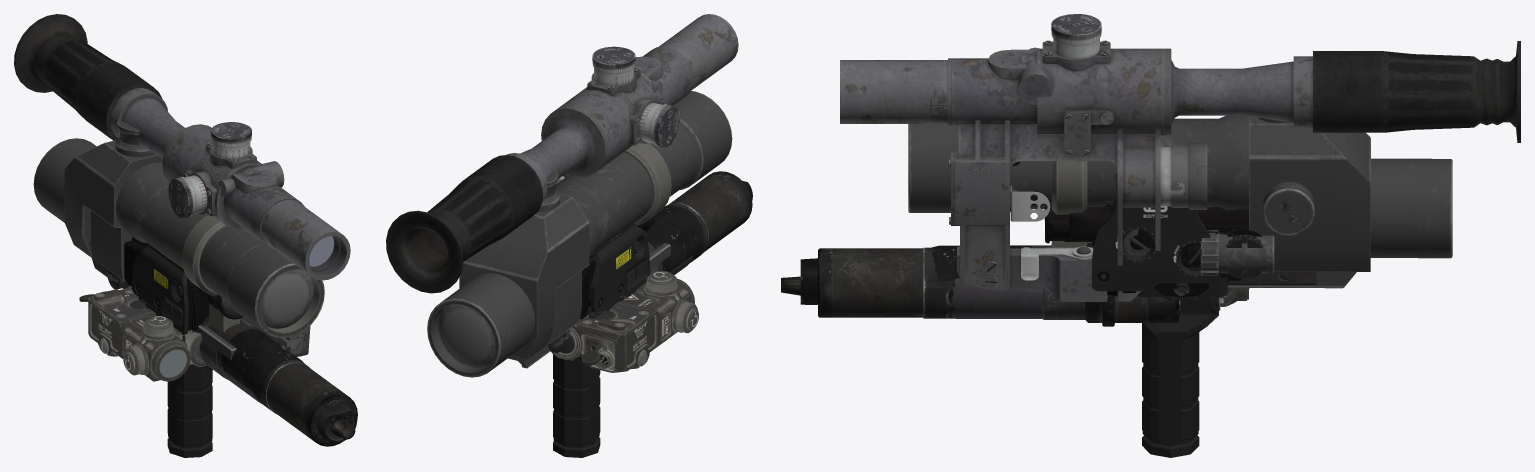
Rendered from attach.glb.
3 renders of one model, left to right at view 1: azimuth 30°, elevation 25°; view 2: azimuth 150°, elevation 25°; view 3: azimuth 270°, elevation 25°, orthographic. The views are drawn at different scales.
Visible parts, largest first — view 1: Scope_SCOPE_0, Circle.014_Scope_0, sup_54r, sup_762, fgrip, 11_Main_0, wRing.063_Perst_4_tex_0, wRing.057_Perst_4_tex_0, scope_4x, PBS-4_PBS4_0, wRing.062_Perst_4_tex_0, Circle.014_Mount_0 (+6 smaller); view 2: Scope_SCOPE_0, Circle.014_Scope_0, fgrip, wRing.063_Perst_4_tex_0, sup_762, 11_Main_0, sup_54r, wRing.062_Perst_4_tex_0, wRing.049_Perst_4_tex_0, wRing.064_Perst_4_tex_0, 14_Main_0, wRing_Silencer_tex_0 (+1 smaller); view 3: Circle.014_Scope_0, Scope_SCOPE_0, Circle.014_Mount_0, sup_762, fgrip, 11_Main_0, scope_4x, PBS-4_PBS4_0, sup_54r, wRing_Silencer_tex_0, 14_Main_0, Circle.014_BoltsNnuts_0.
Part boxes in pixels (bbox=[...]): Scope_SCOPE_0: bbox=[33, 121, 324, 359]; Circle.014_Scope_0: bbox=[14, 14, 350, 280]; sup_54r: bbox=[208, 319, 356, 442]; sup_762: bbox=[197, 316, 357, 446]; fgrip: bbox=[167, 364, 212, 457]; 11_Main_0: bbox=[132, 243, 188, 334]; wRing.063_Perst_4_tex_0: bbox=[88, 286, 192, 381]; wRing.057_Perst_4_tex_0: bbox=[151, 341, 190, 381]; scope_4x: bbox=[107, 236, 243, 319]; PBS-4_PBS4_0: bbox=[200, 317, 340, 427]; wRing.062_Perst_4_tex_0: bbox=[92, 288, 153, 318]; Circle.014_Mount_0: bbox=[245, 318, 310, 356]; Scope_SCOPE_0: bbox=[427, 91, 732, 377]; Circle.014_Scope_0: bbox=[386, 14, 738, 293]; fgrip: bbox=[553, 354, 600, 457]; wRing.063_Perst_4_tex_0: bbox=[551, 282, 691, 372]; sup_762: bbox=[669, 171, 752, 251]; 11_Main_0: bbox=[590, 223, 650, 312]; sup_54r: bbox=[646, 181, 752, 272]; wRing.062_Perst_4_tex_0: bbox=[577, 303, 650, 333]; wRing.049_Perst_4_tex_0: bbox=[673, 300, 698, 333]; wRing.064_Perst_4_tex_0: bbox=[645, 271, 678, 294]; 14_Main_0: bbox=[580, 254, 595, 319]; wRing_Silencer_tex_0: bbox=[664, 203, 708, 263]; Circle.014_Scope_0: bbox=[840, 14, 1520, 157]; Scope_SCOPE_0: bbox=[908, 115, 1452, 288]; Circle.014_Mount_0: bbox=[951, 120, 1207, 301]; sup_762: bbox=[818, 243, 1178, 326]; fgrip: bbox=[1142, 297, 1218, 457]; 11_Main_0: bbox=[1092, 174, 1220, 291]; scope_4x: bbox=[1044, 200, 1316, 284]; PBS-4_PBS4_0: bbox=[952, 278, 1085, 319]; sup_54r: bbox=[781, 245, 1051, 304]; wRing_Silencer_tex_0: bbox=[923, 247, 1180, 318]; 14_Main_0: bbox=[1107, 223, 1262, 296]; Circle.014_BoltsNnuts_0: bbox=[949, 40, 1179, 291].
Size of the model in its own units: 0.1072 by 0.2582 by 0.4075.
Materials: 20 (18 with a texture image).
